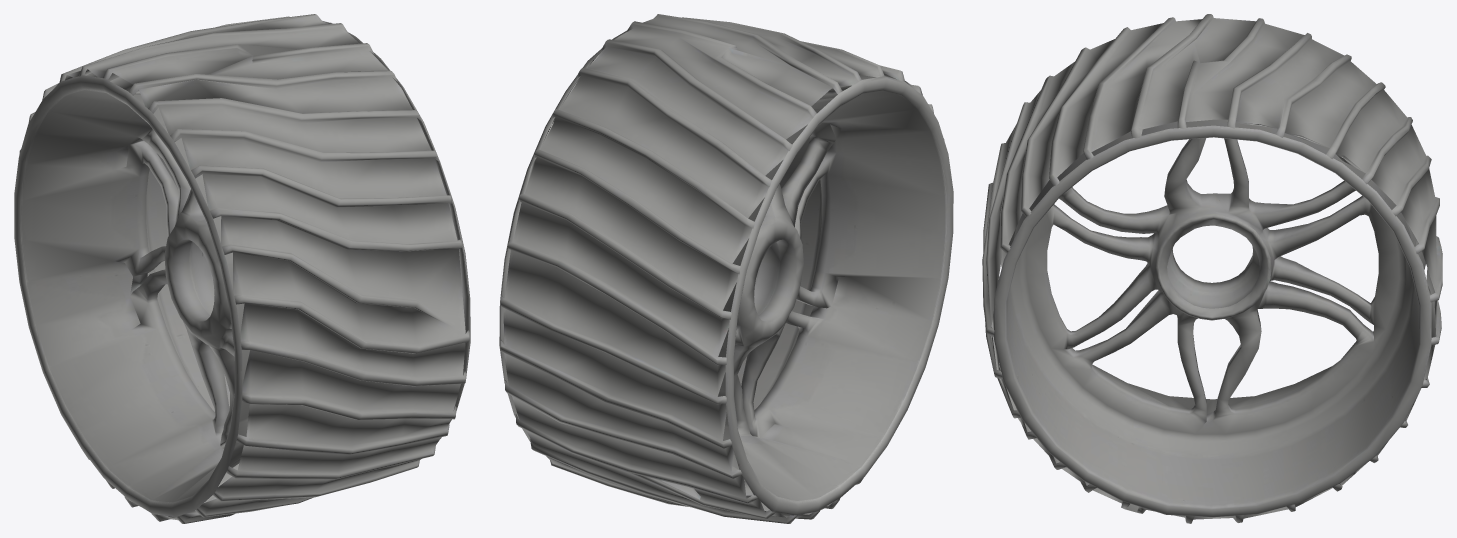
The model's file is selected.glb.
The picture shows the model from 3 angles, left to right: view 1: azimuth 30°, elevation 25°; view 2: azimuth 150°, elevation 25°; view 3: azimuth 270°, elevation 25°; orthographic projection. The views are drawn at different scales.
Visible parts, largest first — view 1: tripo_node_c62e9cda-0711-4780-be4e-bea09d493a0f; view 2: tripo_node_c62e9cda-0711-4780-be4e-bea09d493a0f; view 3: tripo_node_c62e9cda-0711-4780-be4e-bea09d493a0f.
Boxes of the visible parts, x1=… form: tripo_node_c62e9cda-0711-4780-be4e-bea09d493a0f: x1=14, y1=14, x2=470, y2=523; tripo_node_c62e9cda-0711-4780-be4e-bea09d493a0f: x1=499, y1=14, x2=953, y2=523; tripo_node_c62e9cda-0711-4780-be4e-bea09d493a0f: x1=982, y1=14, x2=1442, y2=523.
Size of the model in its own units: 0.5605 by 0.998 by 0.998.
1 material, 1 textured.
